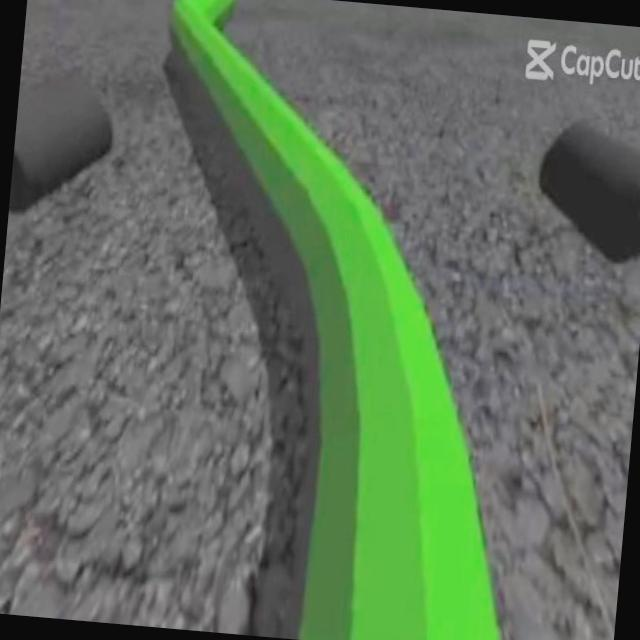gas: (186, 68, 551, 640)
